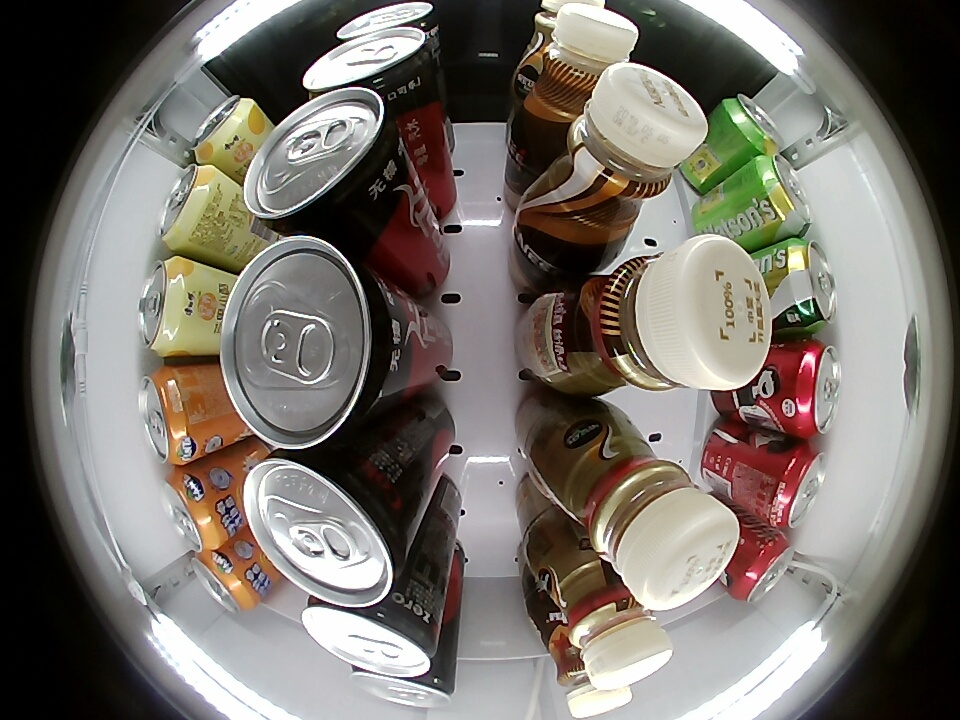fenda: (137, 366, 200, 466), (159, 470, 225, 553), (190, 547, 262, 613)
kafei: (556, 419, 741, 613), (560, 233, 773, 396), (550, 62, 707, 234), (553, 558, 671, 688), (531, 4, 639, 121), (512, 0, 604, 89), (544, 630, 634, 719)
kele: (760, 442, 826, 528), (785, 340, 843, 437), (726, 529, 795, 603)
lingdukele: (219, 236, 412, 451), (244, 450, 414, 606), (243, 87, 405, 238), (302, 585, 441, 677), (302, 27, 439, 107), (350, 654, 455, 709), (336, 2, 438, 43)
mangguoxiaolao: (139, 257, 201, 356), (158, 164, 222, 250), (189, 95, 263, 166)
quchenshixiangcao: (782, 238, 838, 331), (755, 154, 812, 230), (719, 94, 783, 155)
